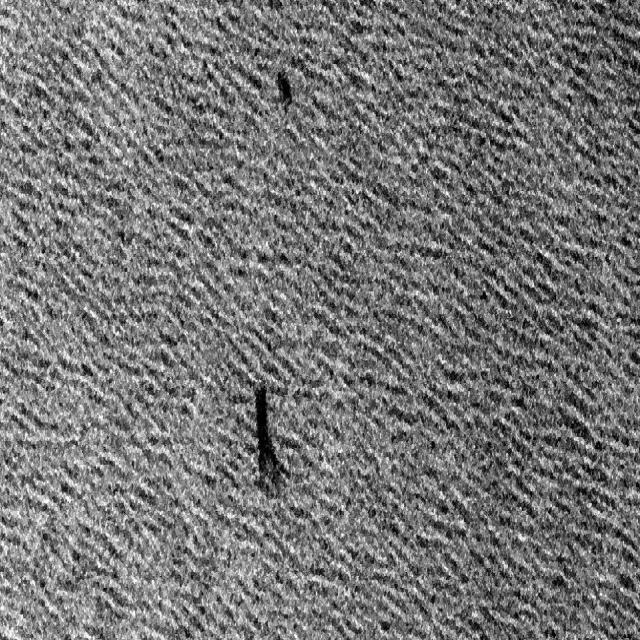oil-spill: (248, 385, 296, 505), (270, 64, 300, 122)
